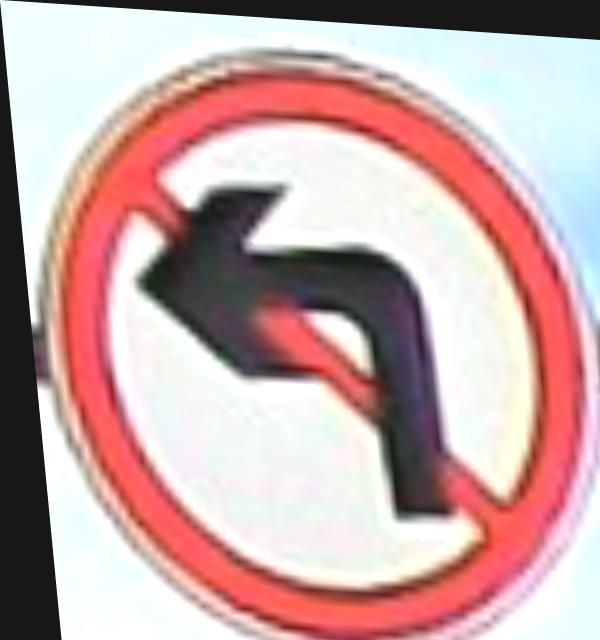not_turn_left: (15, 21, 600, 640)
